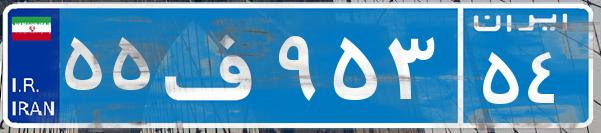3: (385, 28, 445, 110)
4: (525, 38, 570, 115)
5: (330, 28, 385, 110), (57, 26, 110, 107), (475, 38, 525, 113), (110, 28, 158, 105)
9: (273, 28, 330, 110)
ف: (158, 15, 273, 115)
